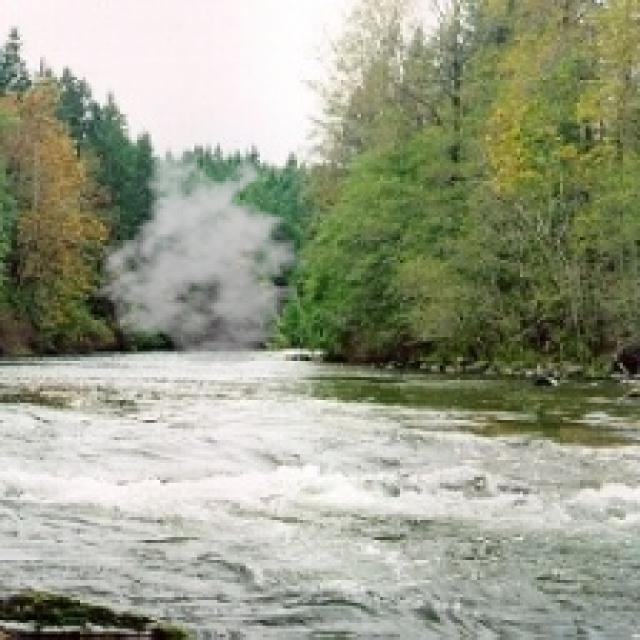smoke: (91, 148, 326, 368)
